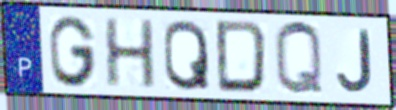D: (213, 19, 270, 96)
G: (47, 13, 99, 89)
H: (102, 16, 159, 91)
J: (335, 27, 376, 95)
Q: (272, 19, 327, 99), (162, 17, 213, 94)
